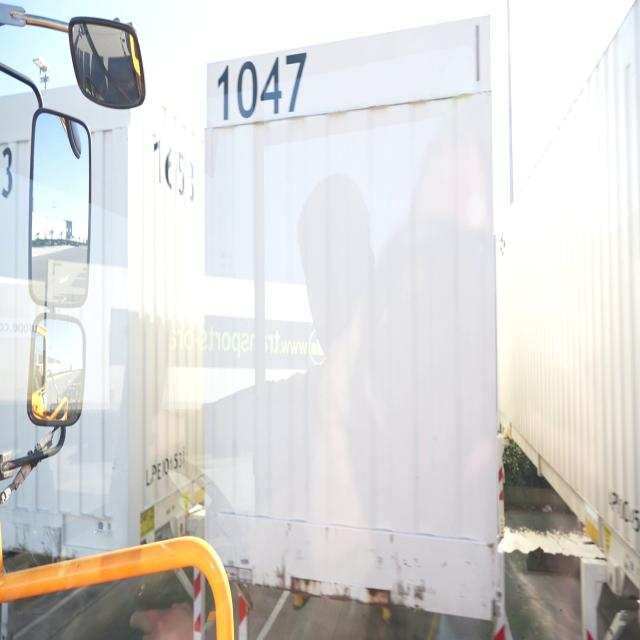Code: (209, 44, 310, 129)
